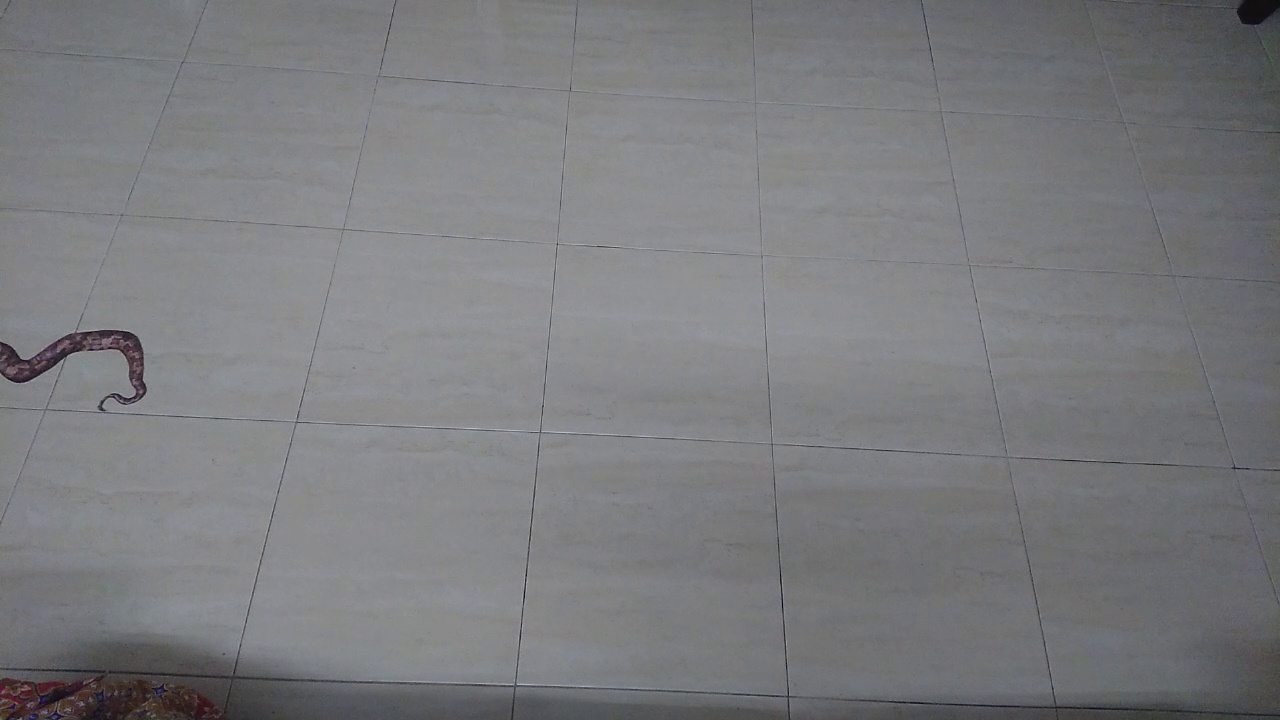snake: (1, 311, 177, 421)
